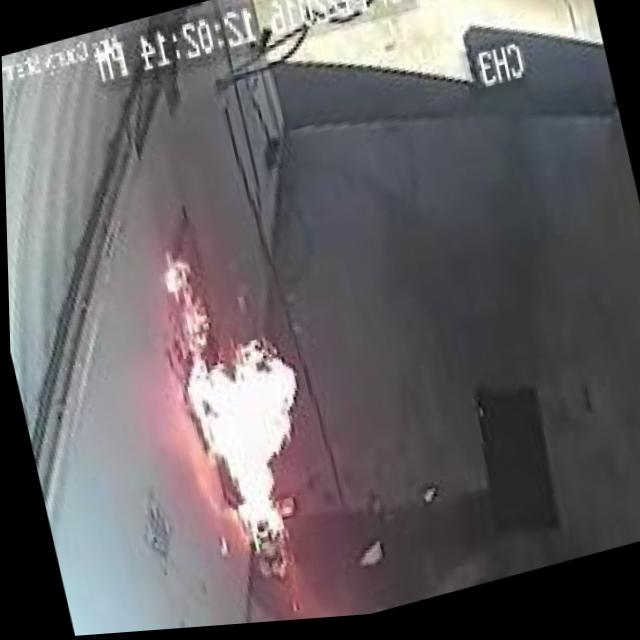fire: (127, 210, 344, 589)
